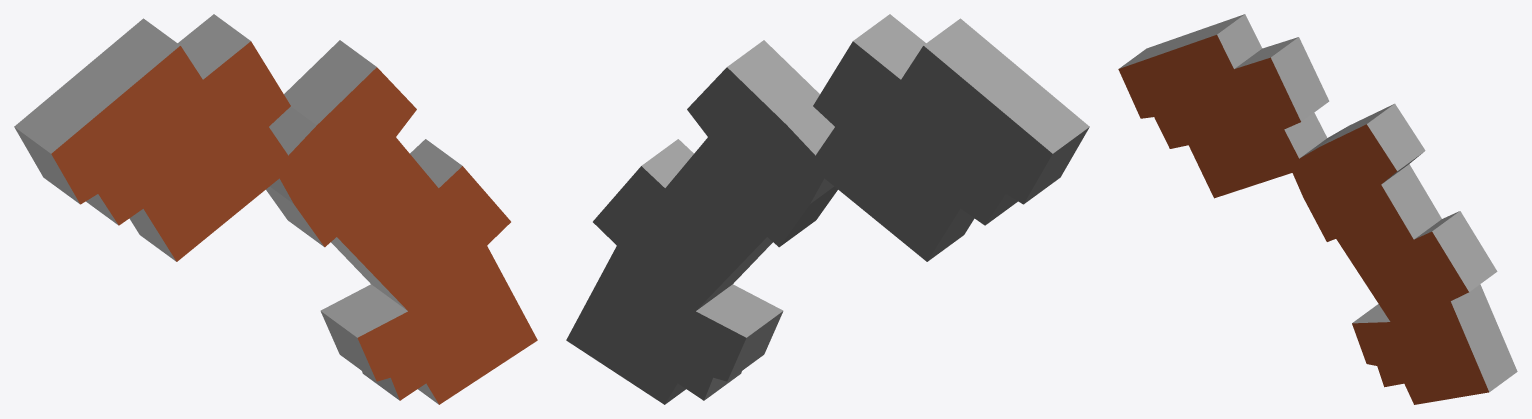
The model's file is construction_7069_assumed_A_Casa_h6m.obj.
3 views of the same model, side by side, from view 1: azimuth 30°, elevation 25°; view 2: azimuth 150°, elevation 25°; view 3: azimuth 330°, elevation 25° (orthographic). The views are drawn at different scales.
Parts seen in each view (by area): view 1: construction_7069_assumed_A_Casa; view 2: construction_7069_assumed_A_Casa; view 3: construction_7069_assumed_A_Casa.
Part boxes in pixels (bbox=[...]): construction_7069_assumed_A_Casa: bbox=[14, 14, 537, 404]; construction_7069_assumed_A_Casa: bbox=[566, 14, 1089, 404]; construction_7069_assumed_A_Casa: bbox=[1118, 14, 1517, 404].
Size of the model in its own units: 45.49 by 37.74 by 6.
